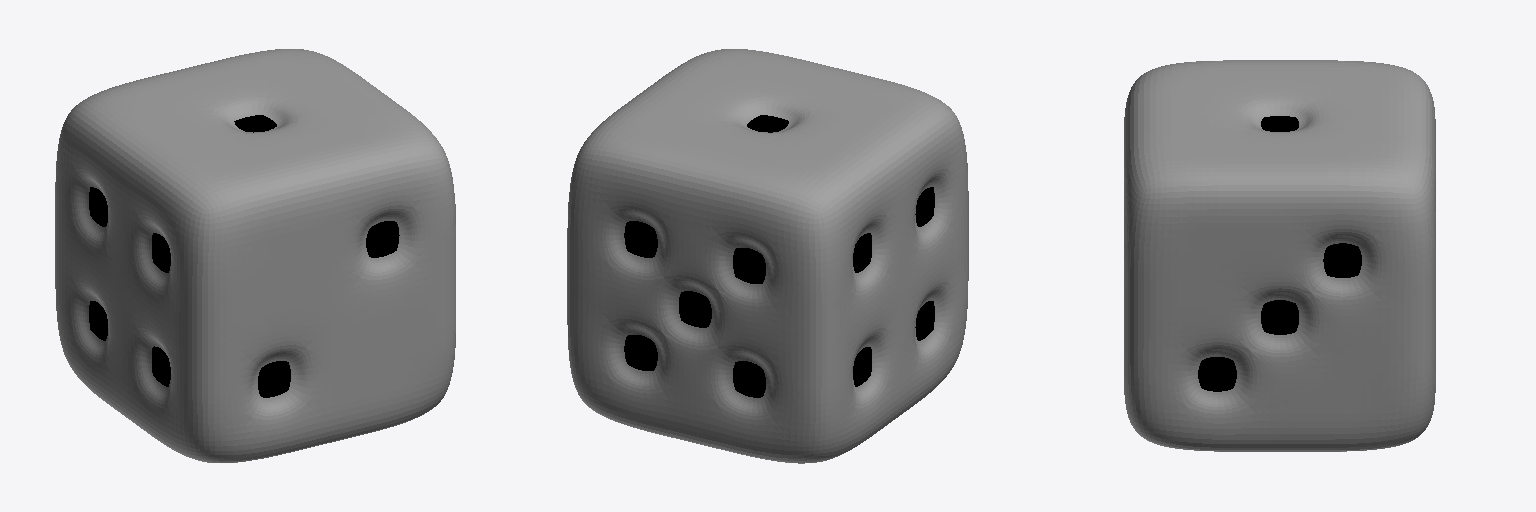
Rendered from die.obj.
3 renders of one model, left to right at view 1: azimuth 30°, elevation 25°; view 2: azimuth 150°, elevation 25°; view 3: azimuth 270°, elevation 25°, orthographic.
Parts seen in each view (by area): view 1: Cube; view 2: Cube; view 3: Cube.
Part boxes in pixels (x1,y1,x2,y2): Cube: (55,49,455,462); Cube: (567,49,968,463); Cube: (1124,60,1435,451).
Size of the model in its own units: 0.7525 by 0.7522 by 0.7522.